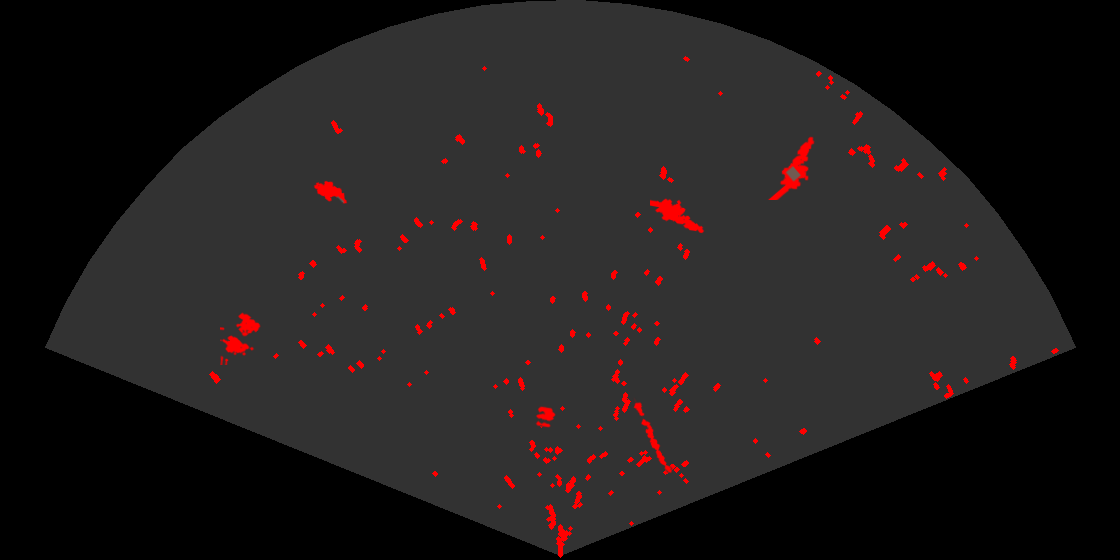AUV: (312, 179, 349, 206)
ball: (534, 405, 557, 429)
cage: (220, 311, 262, 365)
chain: (632, 397, 674, 475)
frogman: (766, 135, 816, 200), (650, 197, 706, 235)
